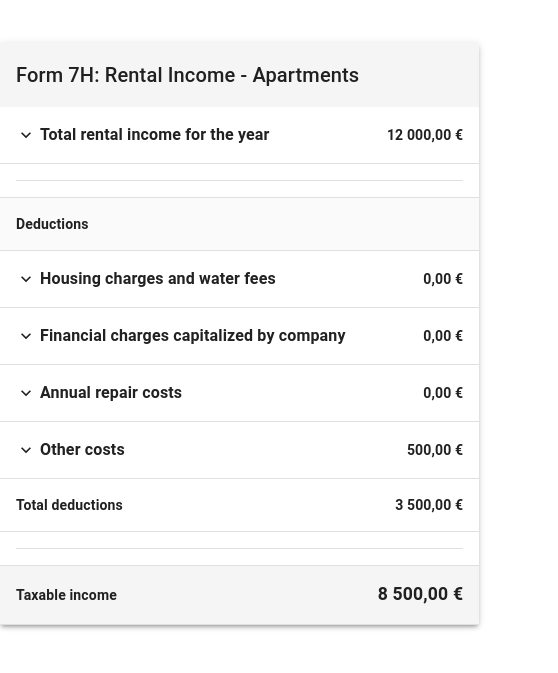
Test: TaxBreakdown › shows depreciation items under Other costs when expanded
Click the text "Other costs". click: [82, 450]
box: [40, 438, 125, 462]
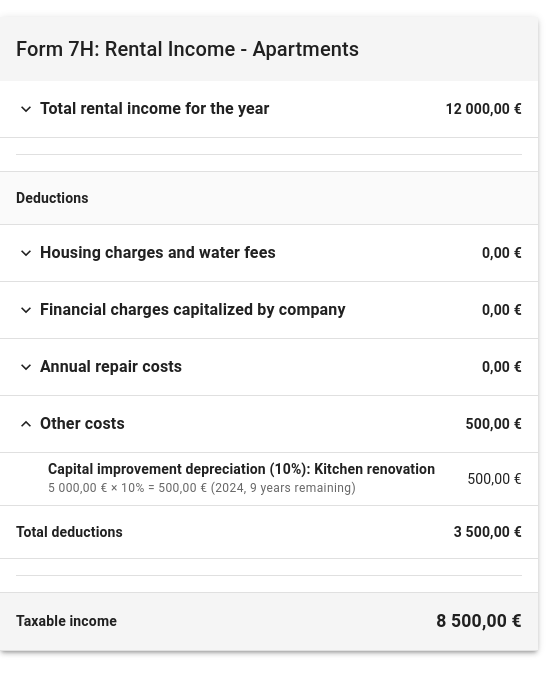
Result: the text "Capital improvement depreciation (10%): Kitchen renovation" is shown at [48, 459, 435, 479]
